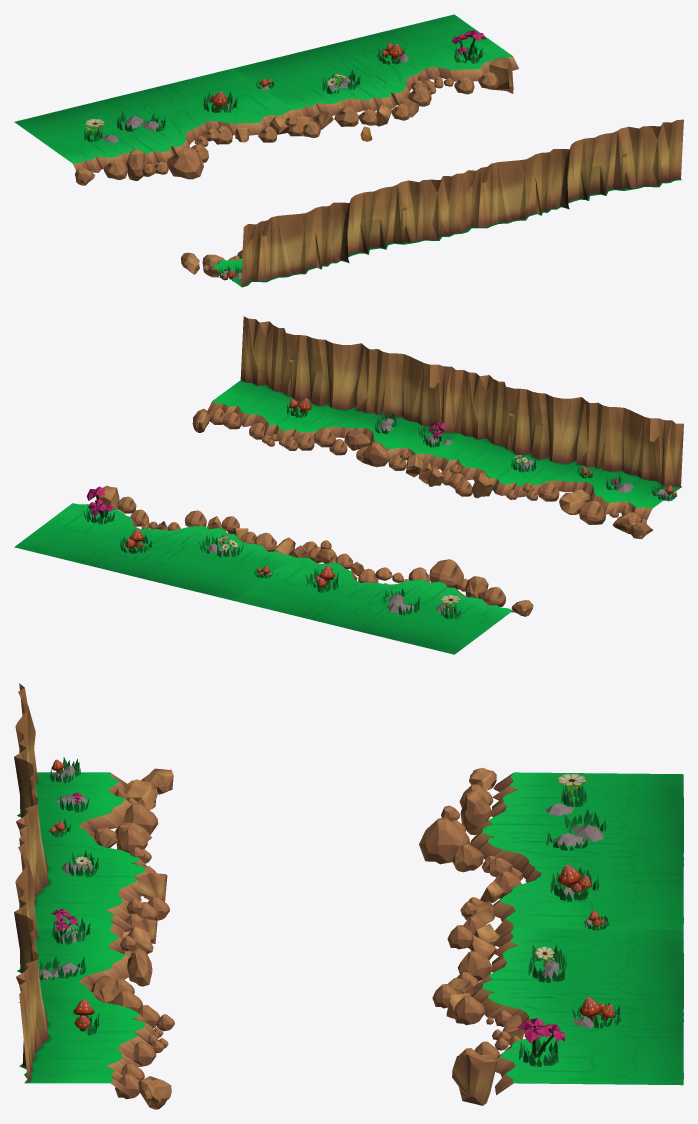
The model's file is Big_guy.fbx.
3 renders of one model, top to bottom at view 1: azimuth 30°, elevation 25°; view 2: azimuth 150°, elevation 25°; view 3: azimuth 270°, elevation 25°, orthographic. The views are drawn at different scales.
Parts seen in each view (by area): view 1: polySurface5624; view 2: polySurface5624; view 3: polySurface5624.
Boxes of the visible parts, bbox=[...] form: polySurface5624: bbox=[14, 14, 683, 287]; polySurface5624: bbox=[14, 316, 683, 654]; polySurface5624: bbox=[14, 683, 683, 1109].
Size of the model in its own units: 4.15 by 0.7677 by 3.64.
